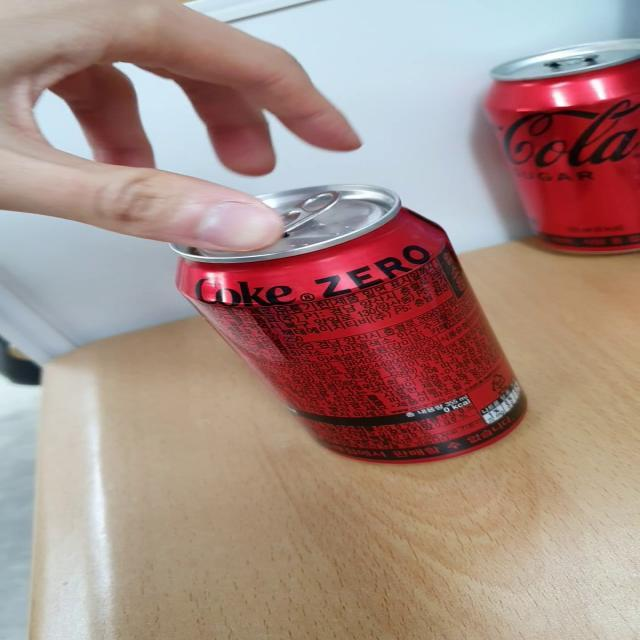coca-cola: (184, 174, 540, 482), (468, 30, 640, 258)
